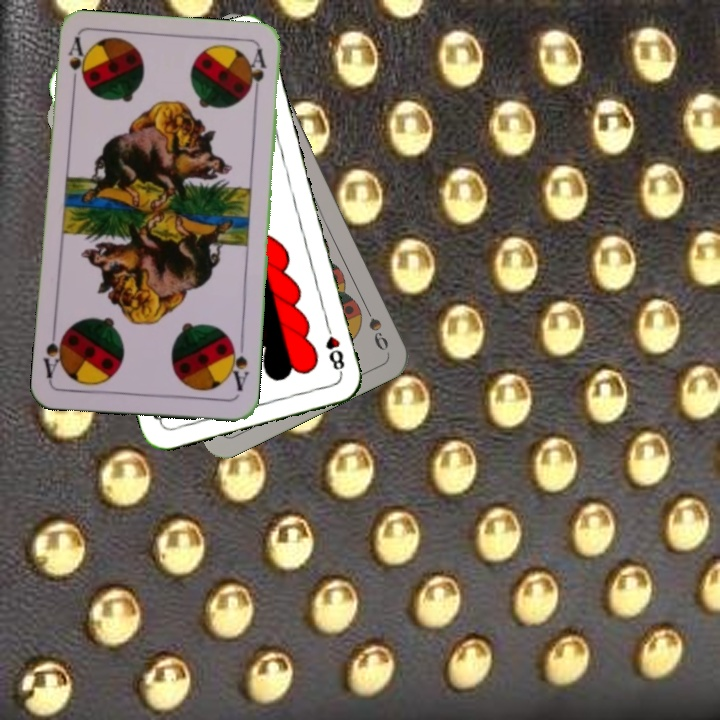H8: (321, 319, 347, 377)
S9: (358, 298, 392, 354)
SA: (224, 336, 251, 394), (64, 34, 87, 94)
